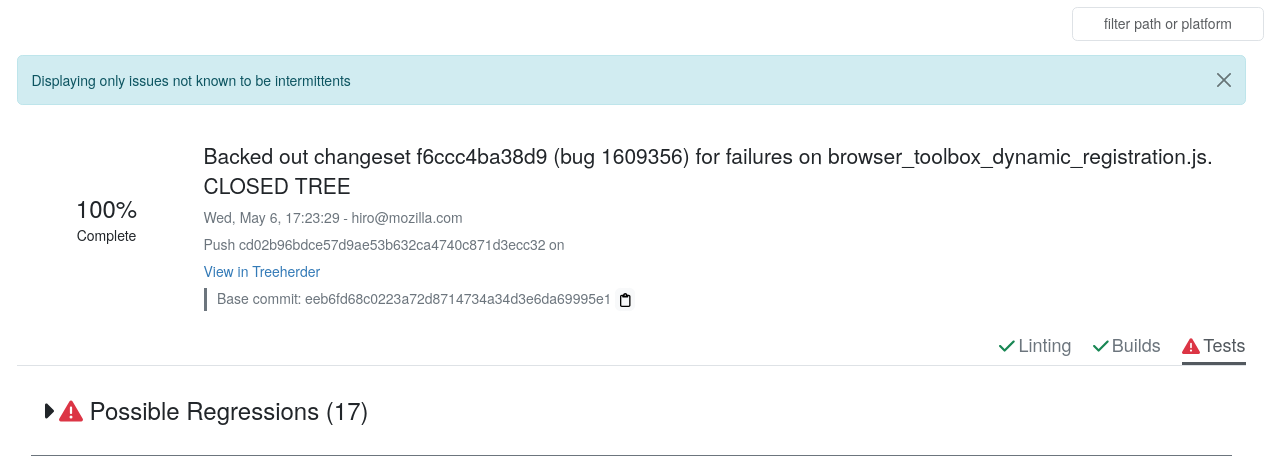
Scenario: Health › should hide intermittent alert when dismissed
This screenshot has width=1271, height=473.
Expected: the text "Displaying only issues not known to be intermittents" is shown, [16,54,1246,104]
# Click the dismiss button
Click the button named "close": (1224,80) [1202,56,1244,104]
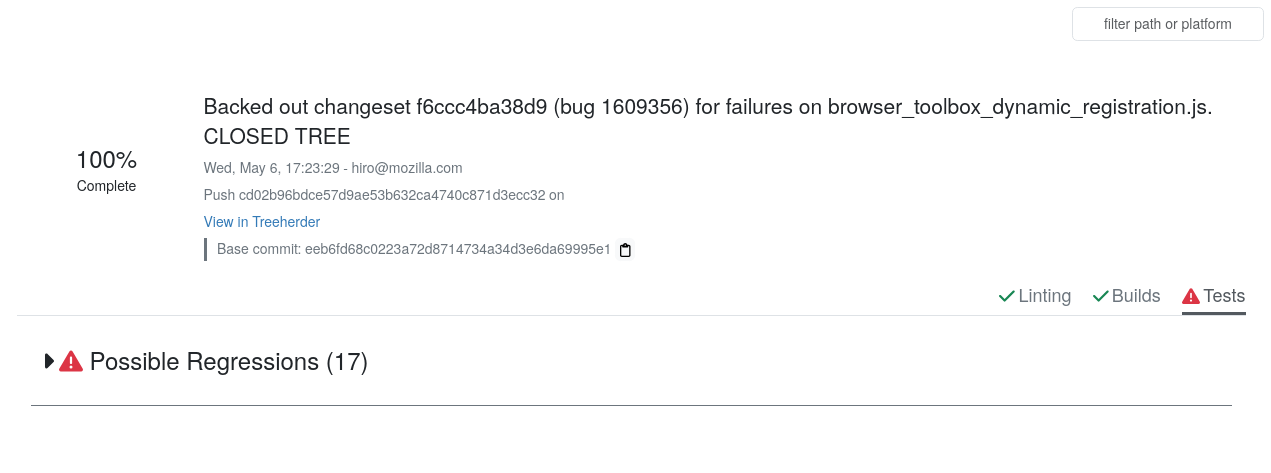
Now the text "Displaying only issues not known to be intermittents" is gone
